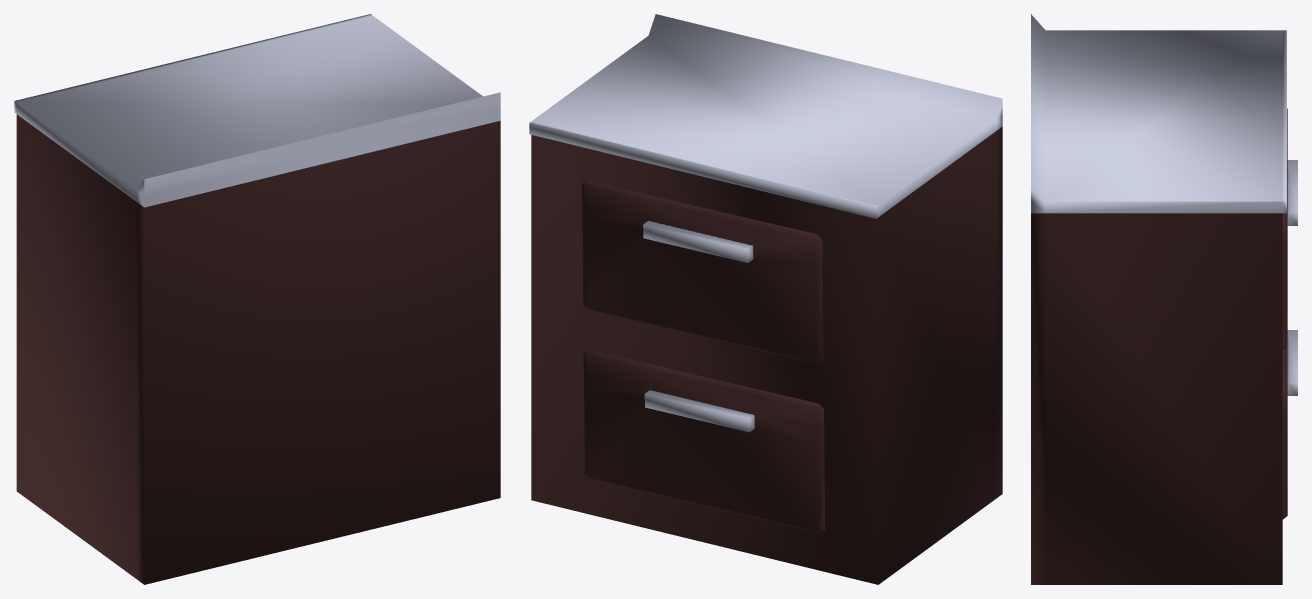
File: HorizontalCounterFinal.fbx
3 views of the same model, side by side, from view 1: azimuth 30°, elevation 25°; view 2: azimuth 150°, elevation 25°; view 3: azimuth 270°, elevation 25° (orthographic). The views are drawn at different scales.
Visible parts, largest first — view 1: Counter.001; view 2: Counter.001, CabinetDoor2.001; view 3: Counter.001, CabinetDoor2.001.
Boxes of the visible parts, <box> form: Counter.001: <box>14,14,500,584</box>; Counter.001: <box>529,14,1002,584</box>; CabinetDoor2.001: <box>582,181,825,532</box>; Counter.001: <box>1031,14,1286,584</box>; CabinetDoor2.001: <box>1282,108,1297,519</box>.
Bounding box in the file's own units: 305 × 333 × 201.
